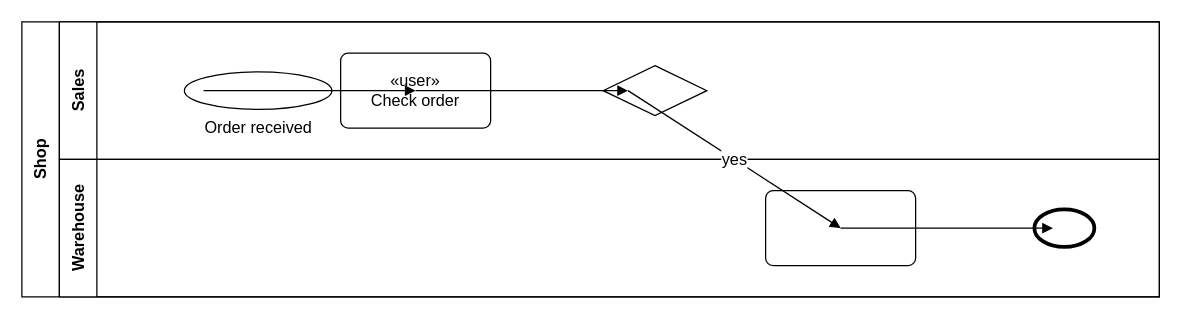
Image size: 1181x319. Some labels were removed from this diagram. The box of each missing label's shape, as (x1, y1, x2, y2) in pixels:
Done: (1032, 207, 1096, 248)
In stock?: (602, 64, 707, 116)
Pack: (764, 189, 916, 266)
